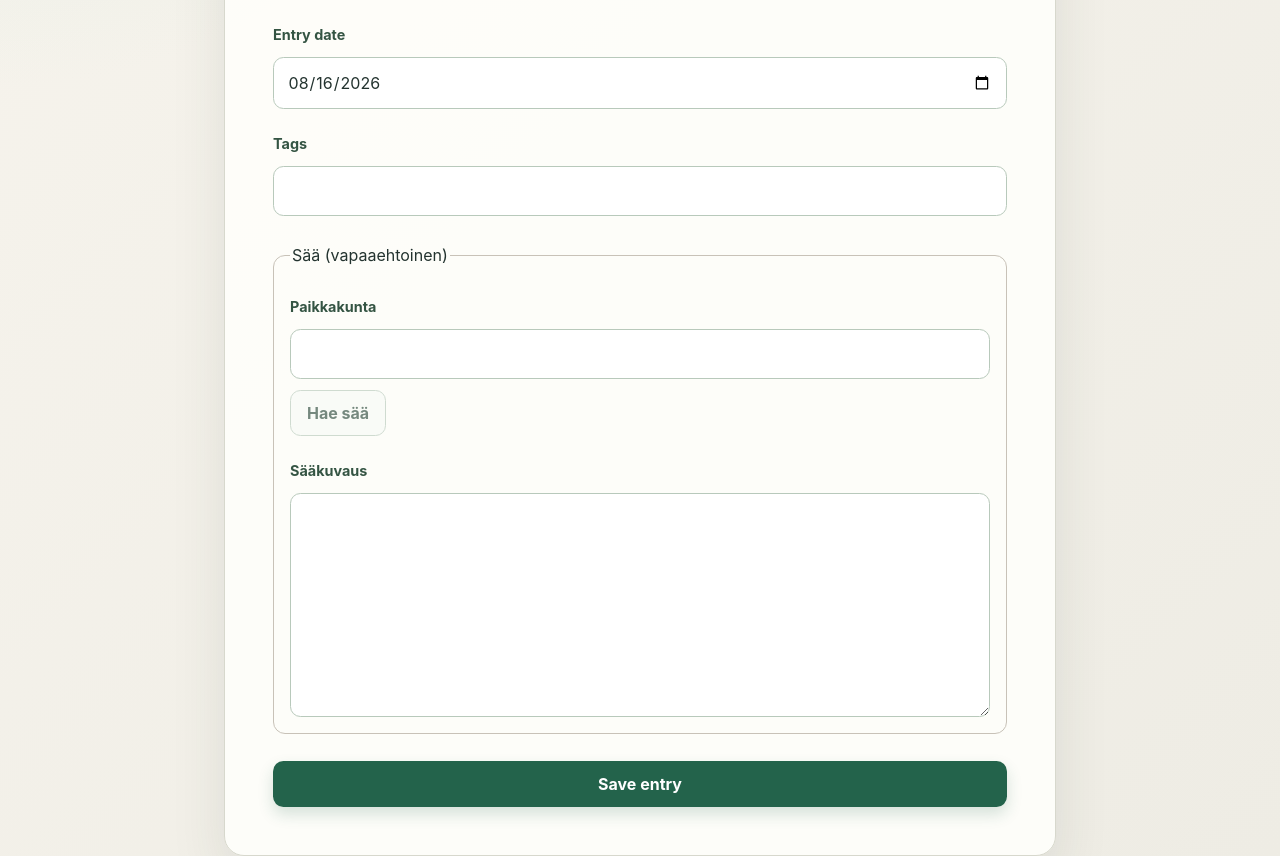
Test case: NewEntryForm › associates an entry-date validation error with the entry-date field
The image size is (1280, 856).
(page scrolled)
Click the button "Save entry" at [640, 784], box [273,761,1007,807]
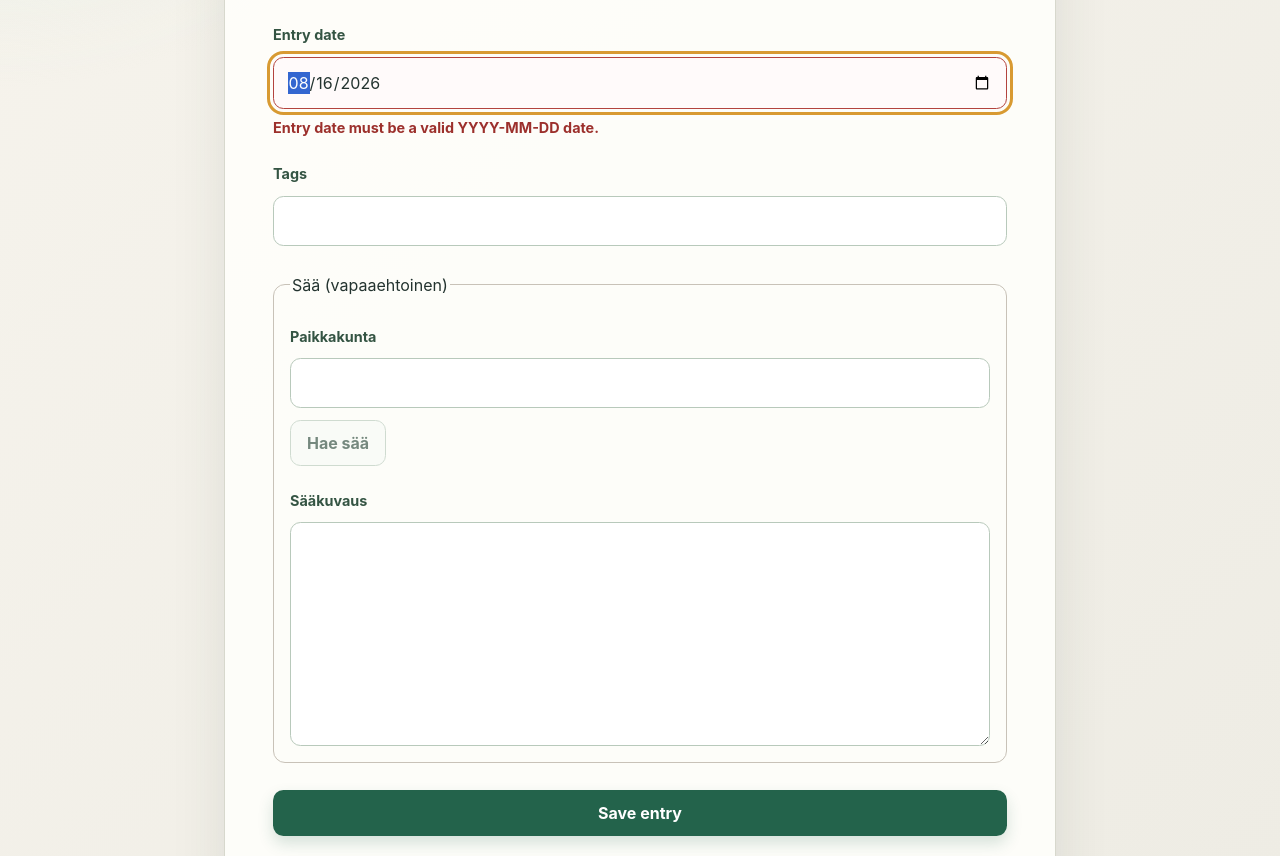
Expected: the message reads "Entry date must be a valid YYYY-MM-DD date.", [273,119,599,136]
